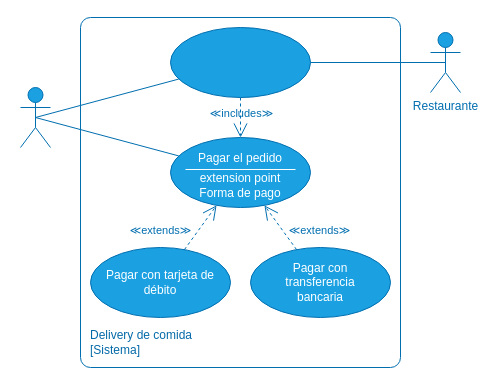
Image size: 495x385. Some labels were removed from this diagram. Each missing label, with the box of its shape:
Cliente: (20, 86, 50, 148)
Hacer pedido al restaurante: (170, 26, 310, 98)
